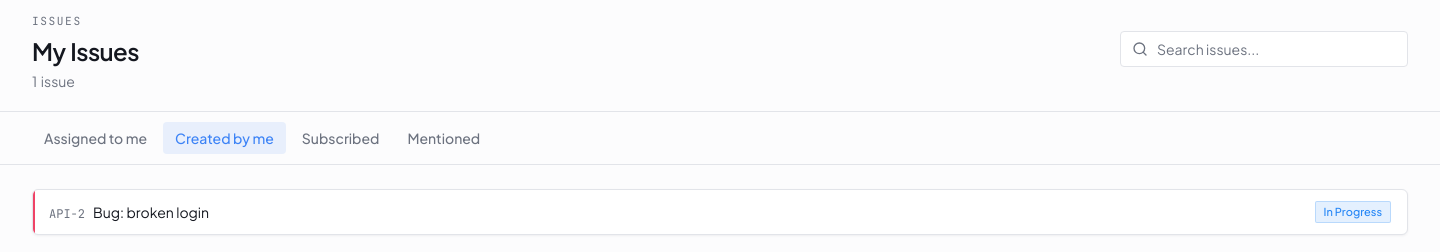
MyIssuesClient › switching view query param changes the rendered issue list
Expected: the text "Bug: broken login" is shown, [93,203,209,221]
// User clicks the "Subscribed" tab.
Click the button "Subscribed".
click(341, 138)  # box [290,122,392,154]
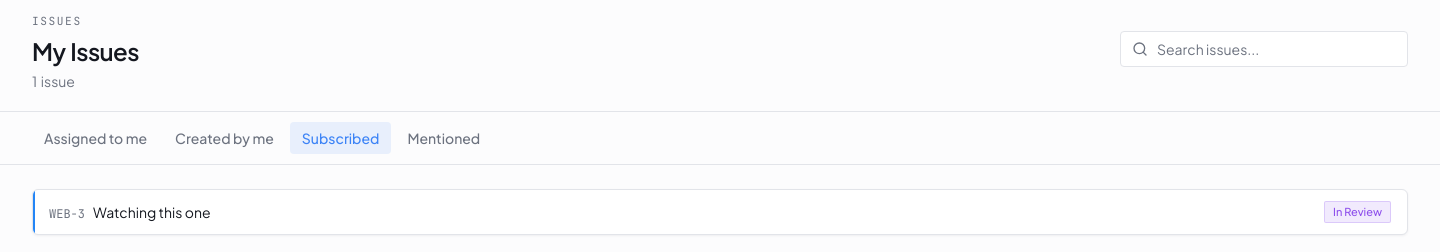
Now the text "Watching this one" is shown, box [93,203,210,221]
